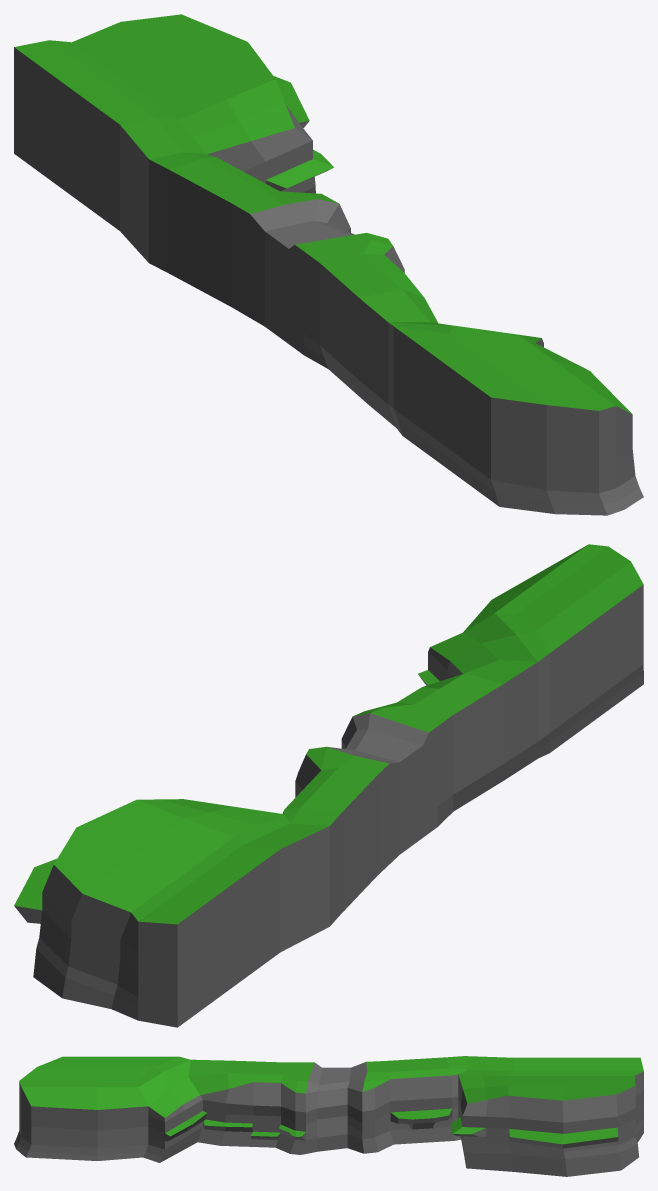
The model's file is AirTerjun.fbx.
3 views of the same model, one above another, from view 1: azimuth 30°, elevation 25°; view 2: azimuth 150°, elevation 25°; view 3: azimuth 270°, elevation 25° (orthographic). The views are drawn at different scales.
Parts seen in each view (by area): view 1: AirTerjun; view 2: AirTerjun; view 3: AirTerjun.
Boxes of the visible parts, left/top/right/bottom form: AirTerjun: left=14, top=14, right=643, bottom=515; AirTerjun: left=14, top=544, right=643, bottom=1027; AirTerjun: left=14, top=1056, right=643, bottom=1176.
Bounding box in the file's own units: 2376 × 1197 × 9612.
